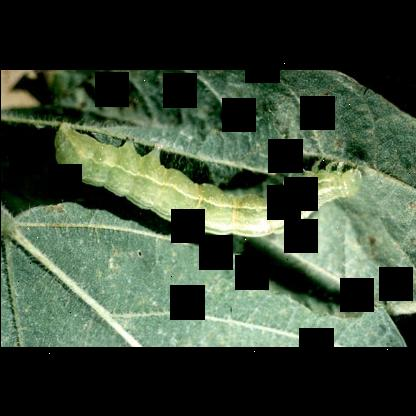oruga: (44, 148, 366, 238)
